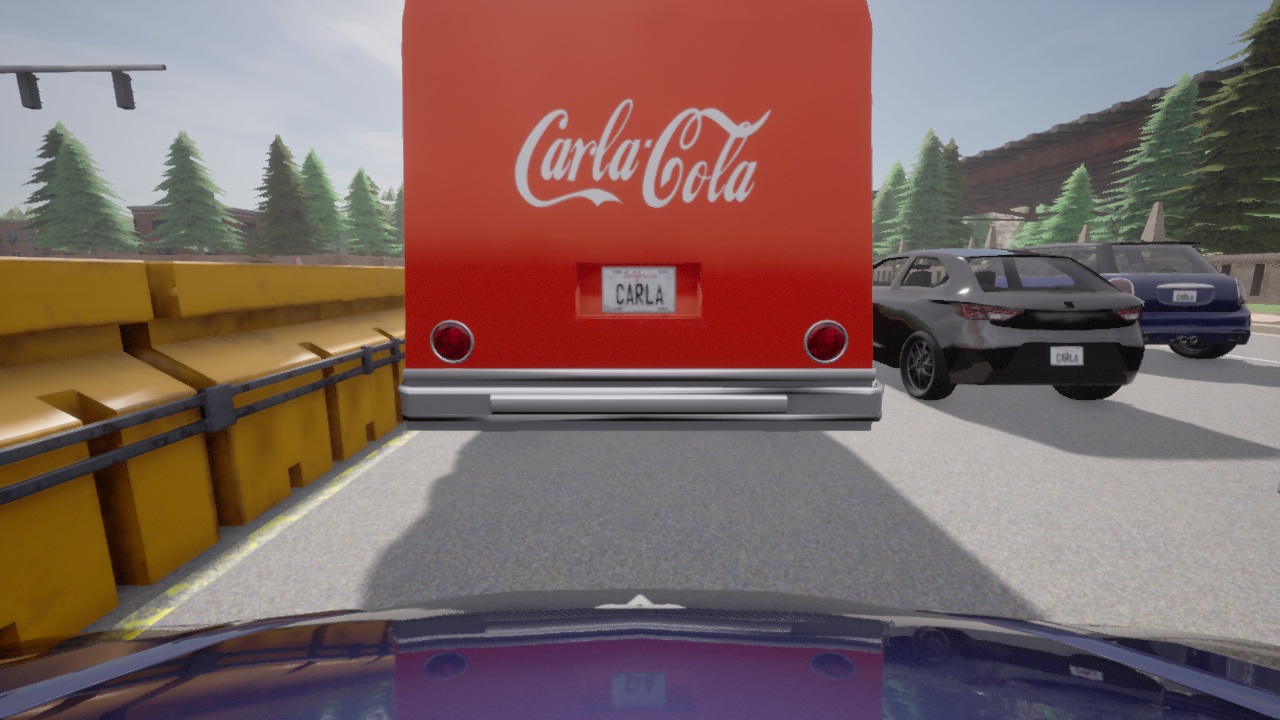cyclist: (398, 0, 883, 430), (0, 588, 1279, 719), (872, 248, 1144, 400), (1015, 231, 1250, 358), (1277, 482, 1279, 493)
pedestrian: (266, 262, 269, 263)
